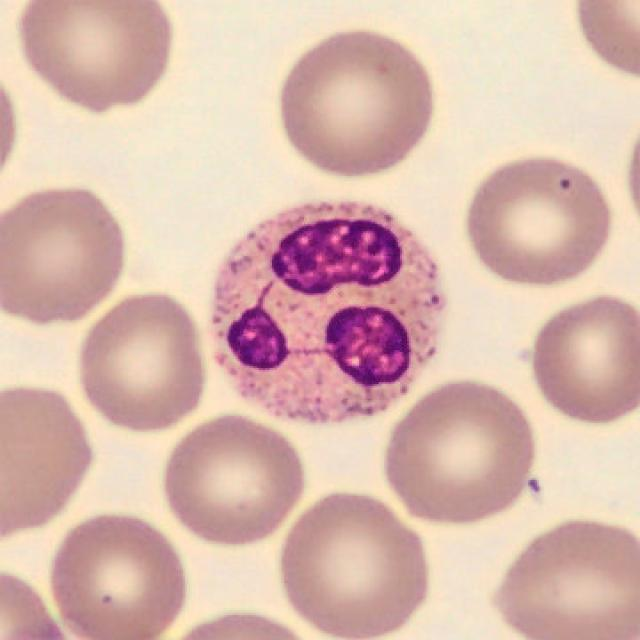Neutrofilo segmentado: (215, 204, 441, 420)
